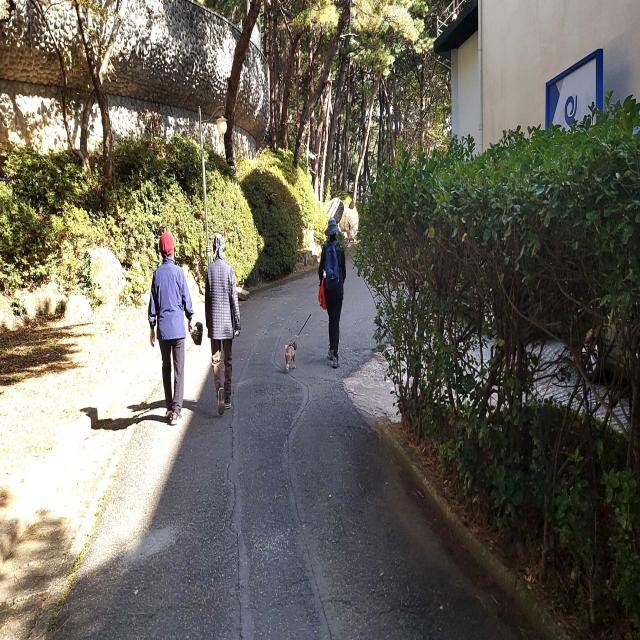Leashed_Dog: (284, 287, 337, 371)
